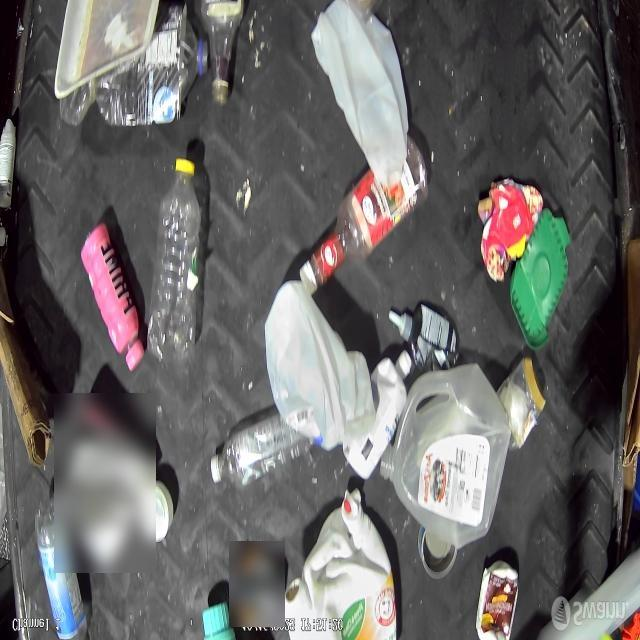milk_jug: (378, 362, 512, 552), (264, 278, 376, 452), (310, 0, 410, 186)
non_white_jug: (283, 487, 397, 640)
plastic_bottle: (58, 7, 208, 126), (146, 157, 202, 362), (210, 403, 324, 490), (200, 0, 246, 106)
